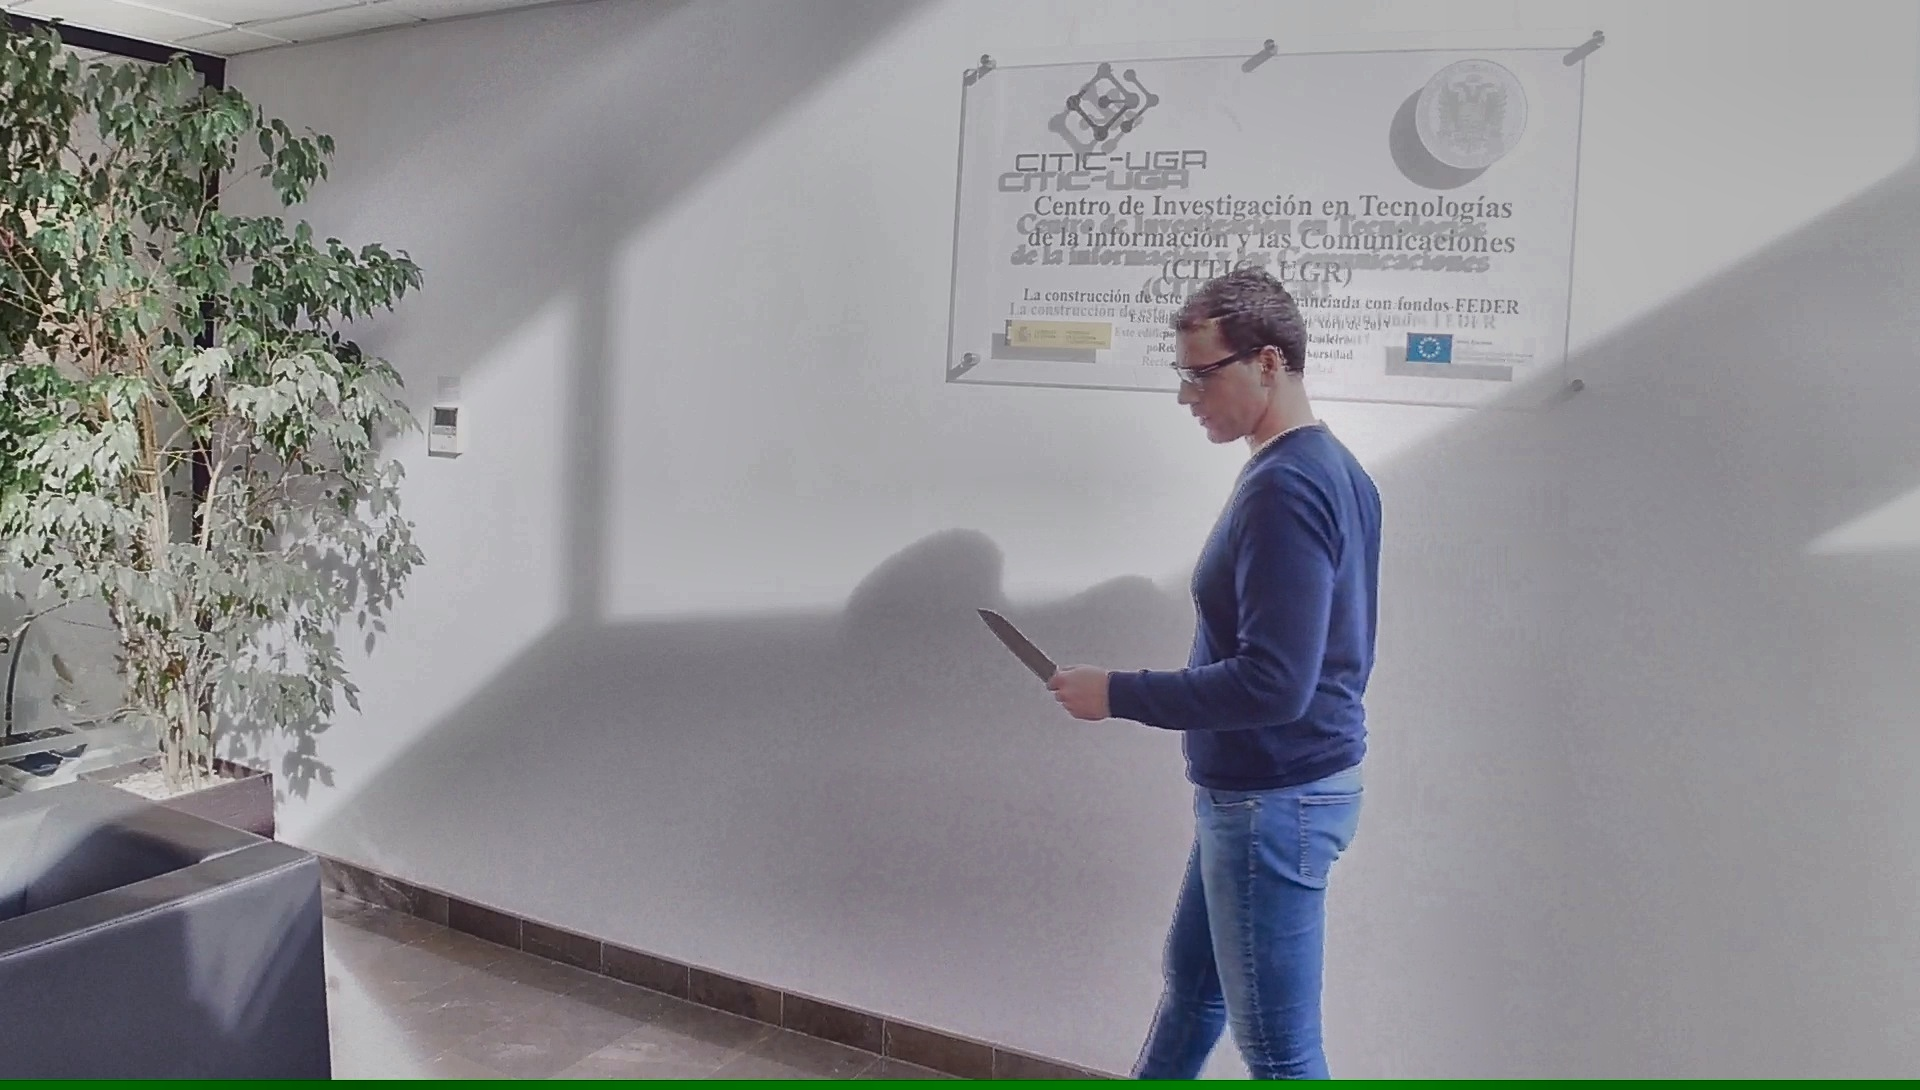knife: (971, 600, 1084, 714)
